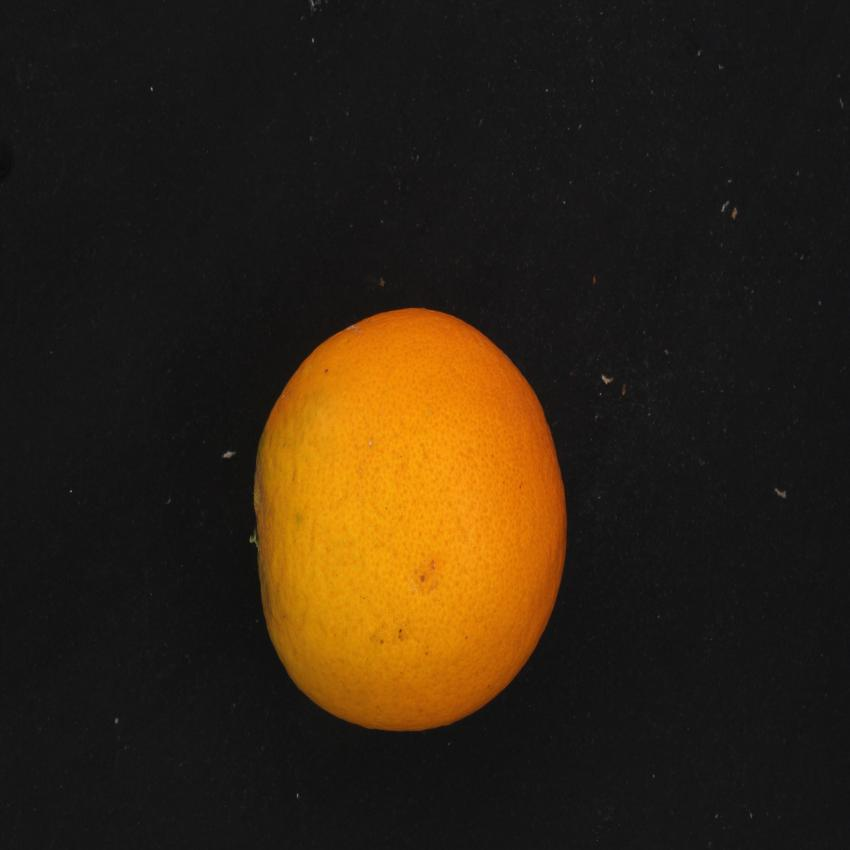Buen estado: (238, 296, 590, 771)
